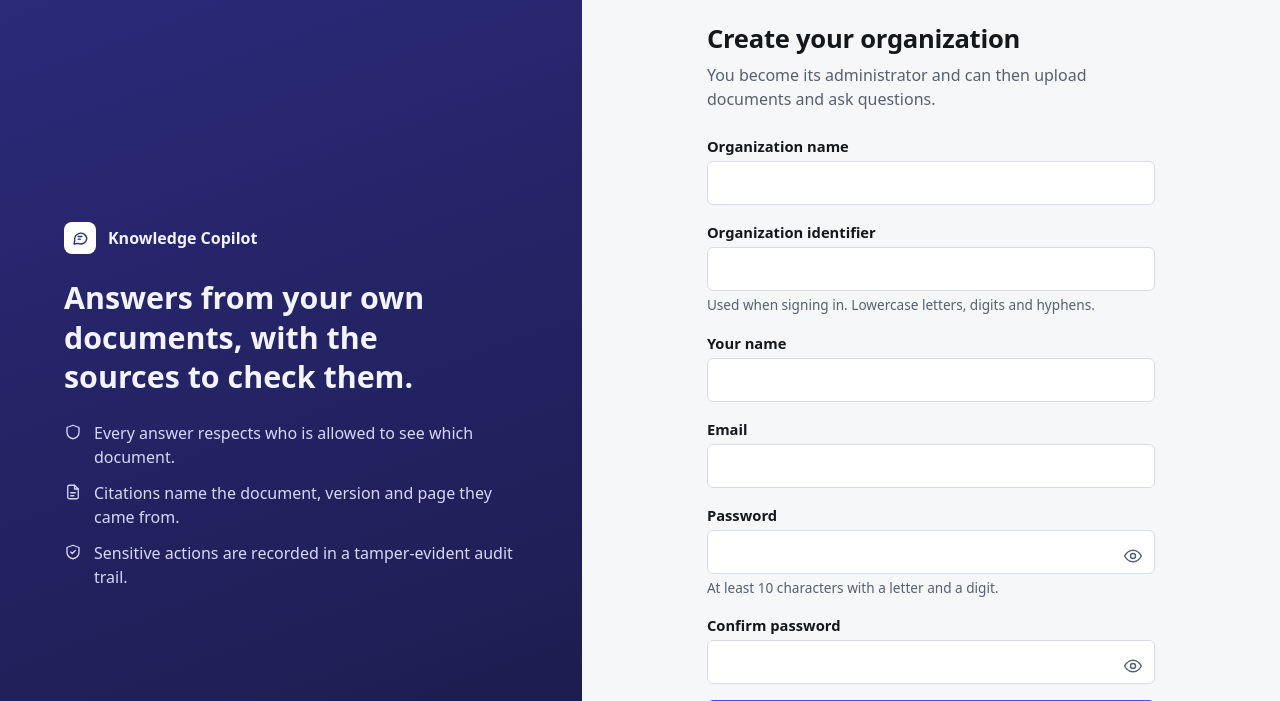
it: signup › flags mismatched confirmation
This screenshot has width=1280, height=701.
In the field labelled "Organization name": {"x": 931, "y": 183} [707,161,1155,205], type "Acme Inc"
In the field labelled "Your name": {"x": 931, "y": 380} [707,358,1155,402], type "Ada Lovelace"
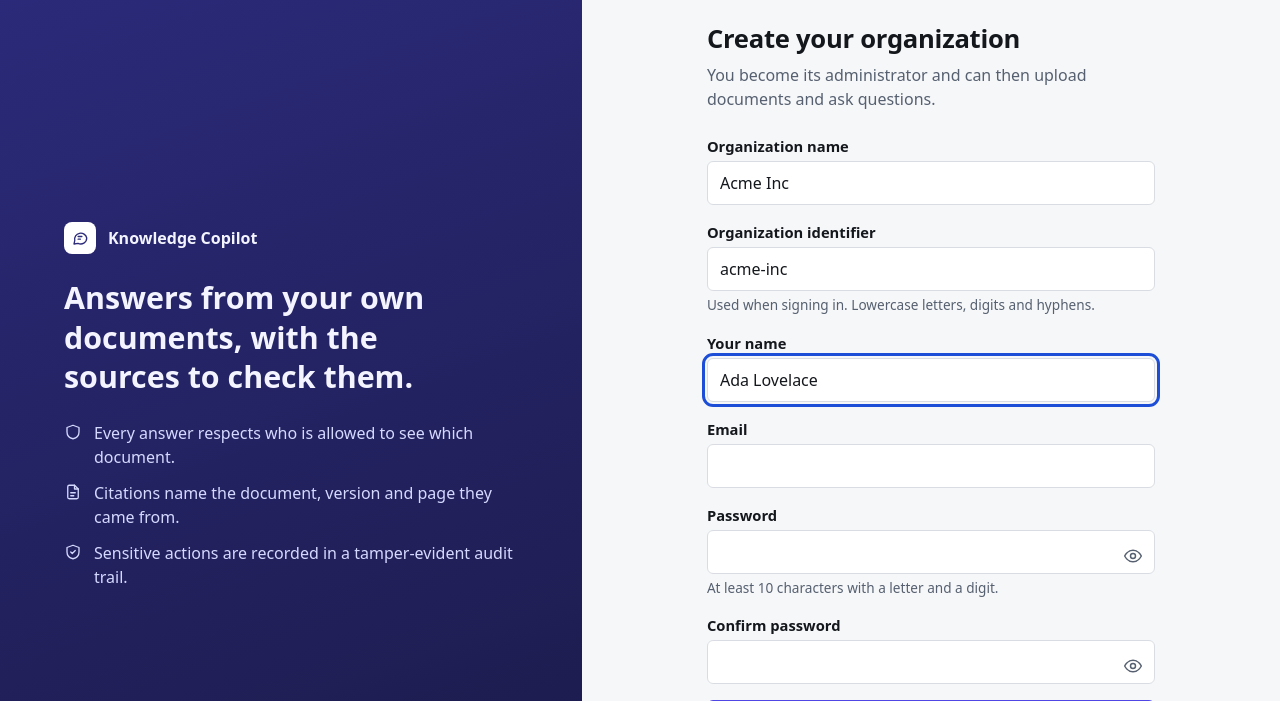
In the field labelled "Email": {"x": 931, "y": 466} [707,444,1155,488], type "ada@example.com"
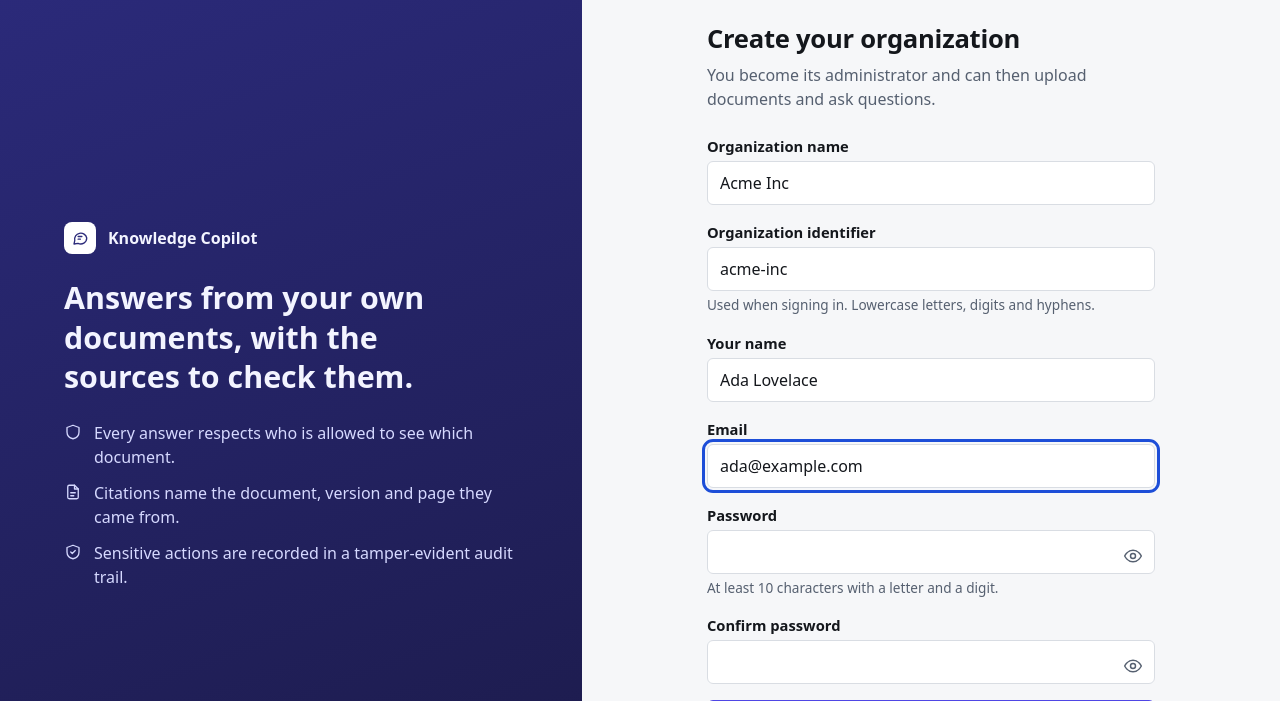
In the password field labelled "Password": {"x": 931, "y": 552} [707,530,1155,574], type "correct-horse-battery-9"
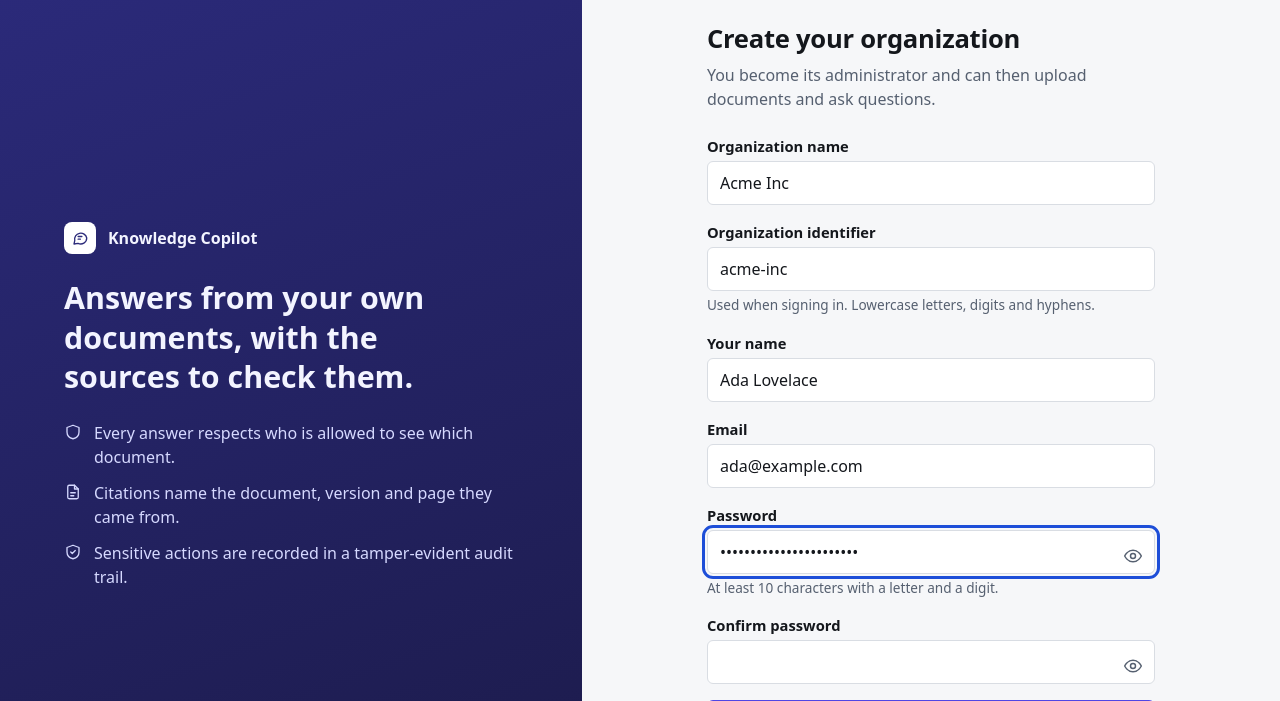
In the password field labelled "Confirm password": {"x": 931, "y": 662} [707,640,1155,684], type "correct-horse-battery-9"
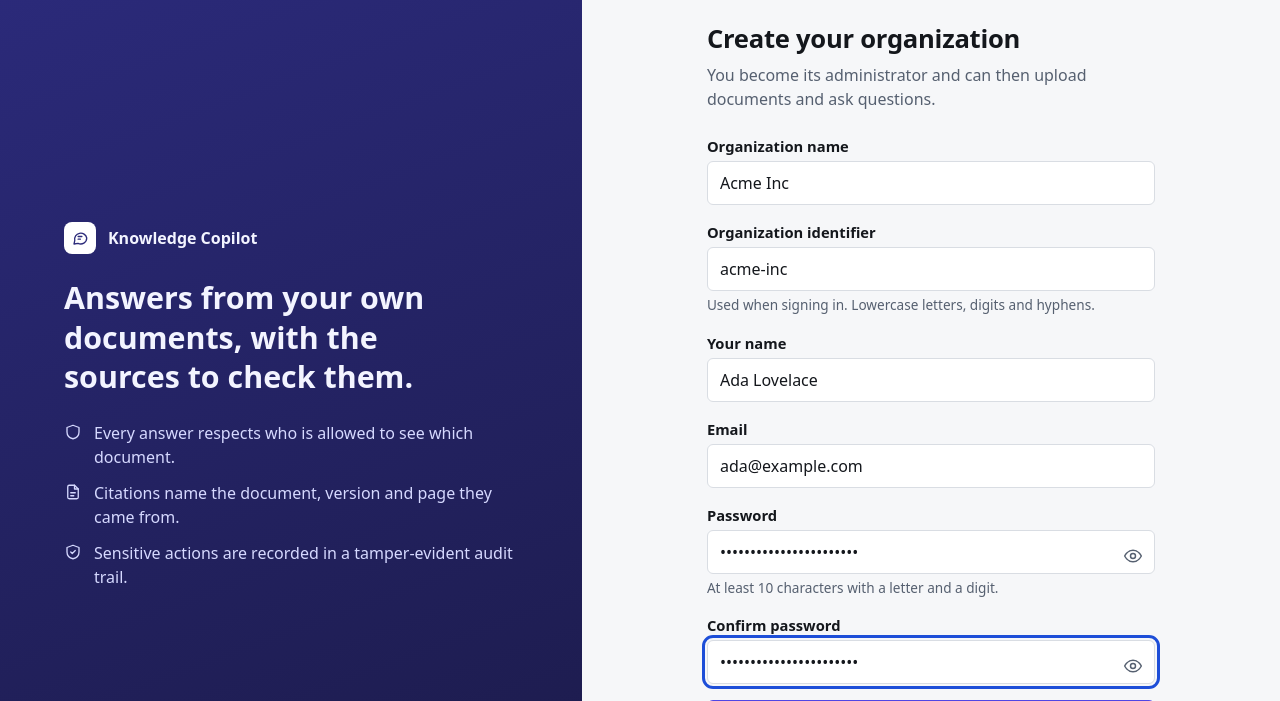
In the password field labelled "Confirm password": {"x": 931, "y": 662} [707,640,1155,684], type "different-pass-1"
(page scrolled)
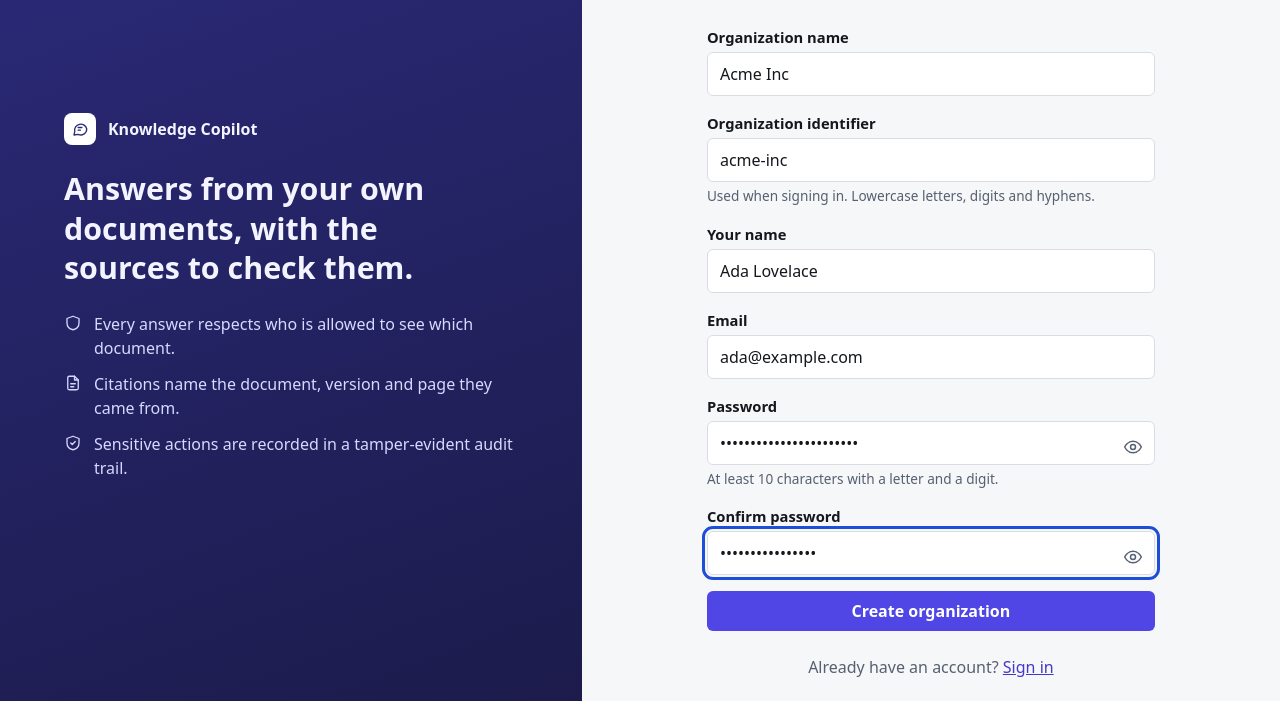
Click the button "Create organization": {"x": 931, "y": 611} [707,591,1155,631]
(page scrolled)
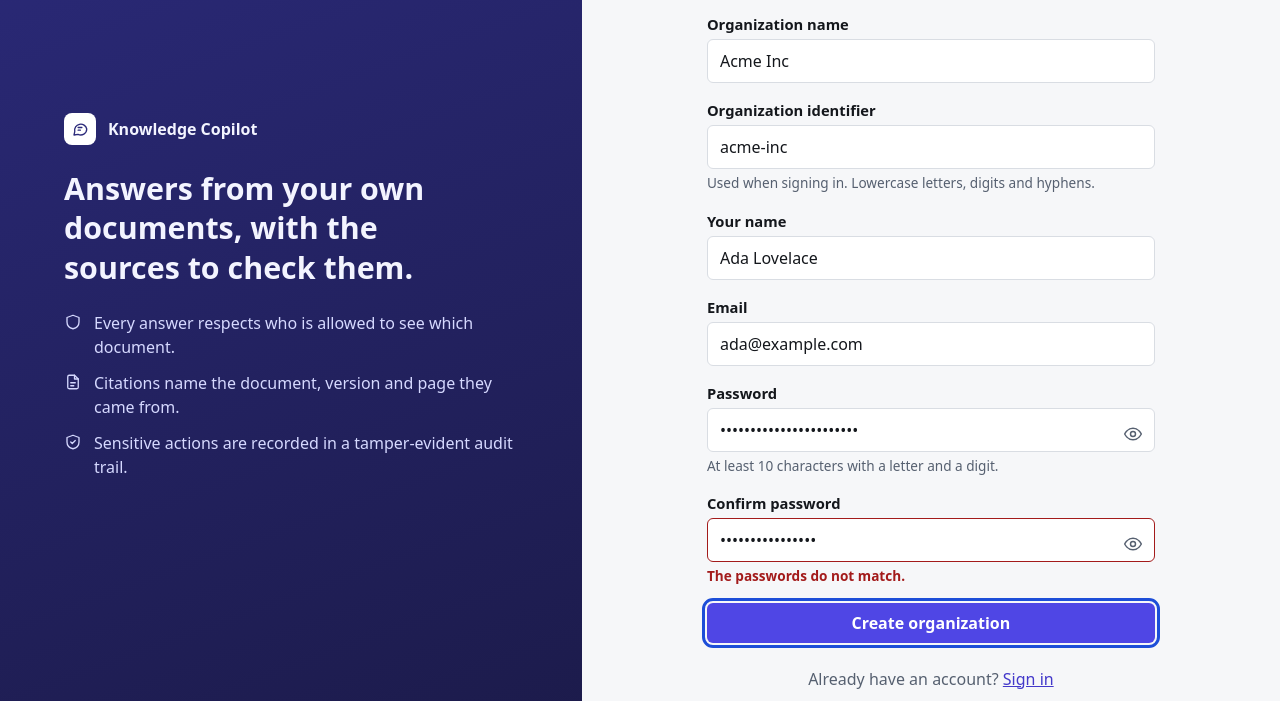
Now the text "The passwords do not match." is shown, box [707,566,905,585]
